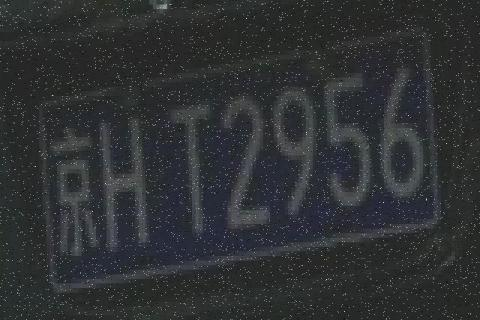LicensePlate: (36, 23, 442, 295)
